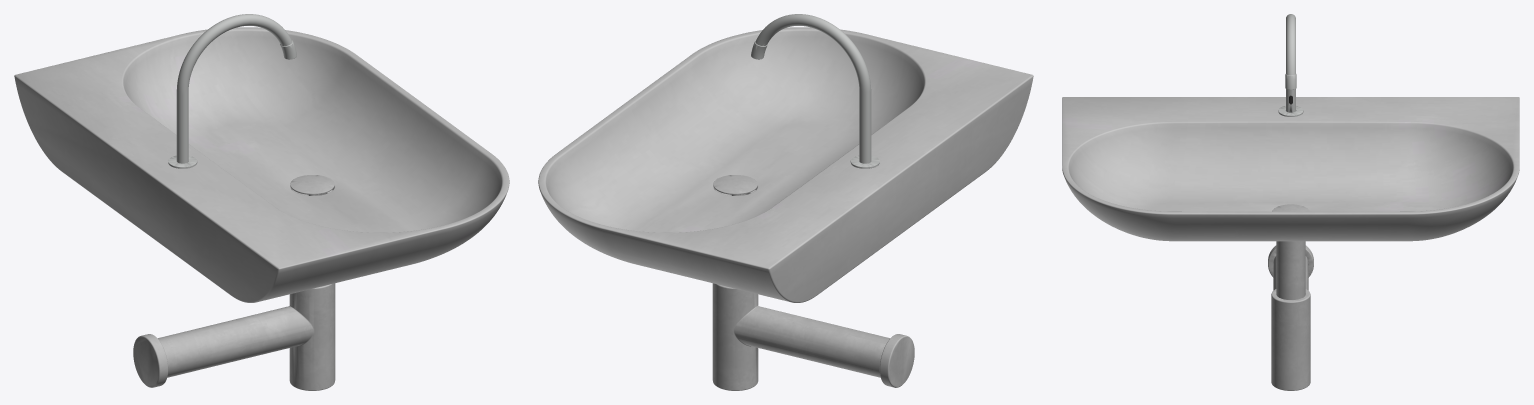
File: washBasin_a01.glb
3 renders of one model, left to right at view 1: azimuth 30°, elevation 25°; view 2: azimuth 150°, elevation 25°; view 3: azimuth 270°, elevation 25°, orthographic. The views are drawn at different scales.
Visible parts, largest first — view 1: basin_01_mesh_00; view 2: basin_01_mesh_00; view 3: basin_01_mesh_00.
Part boxes in pixels (x1,y1,x2,y2): basin_01_mesh_00: [14, 14, 509, 390]; basin_01_mesh_00: [538, 14, 1033, 390]; basin_01_mesh_00: [1062, 14, 1519, 390].
Bounding box in the file's own units: 0.3495 × 0.4609 × 0.5762.
Materials: 4 (3 with a texture image).
